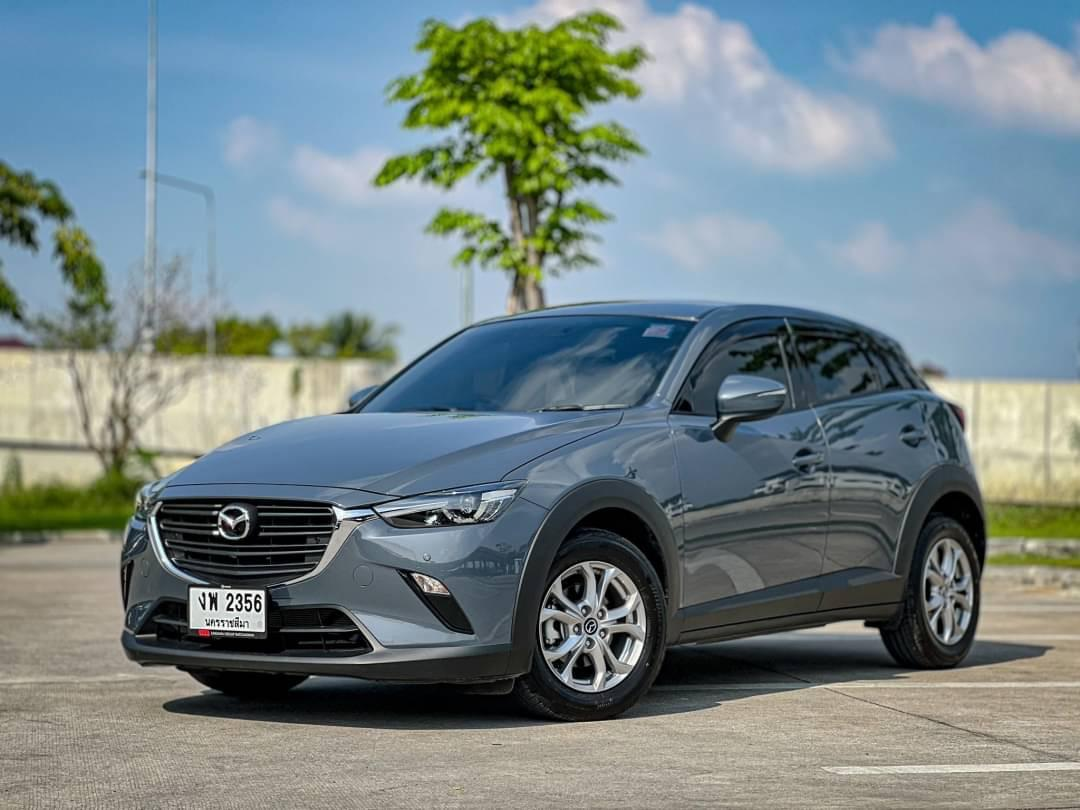license-plate: (188, 579, 273, 643)
